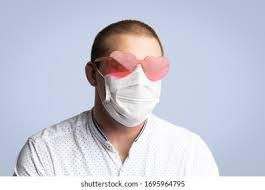mask: (102, 65, 164, 129)
sunglasses: (97, 47, 175, 84)
